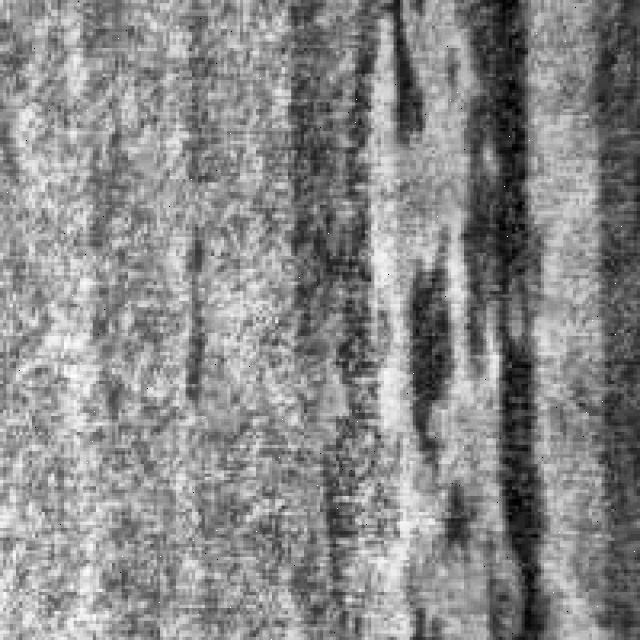Patches: (410, 0, 554, 630), (173, 221, 221, 413)
